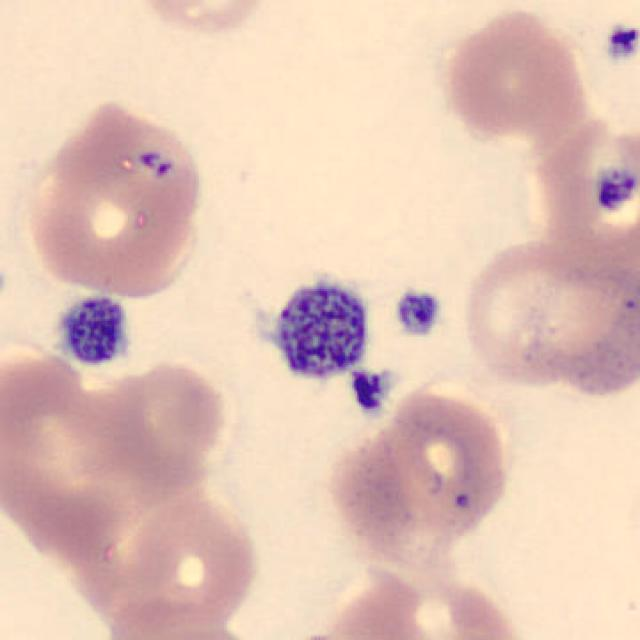Platelets: (263, 273, 373, 386), (52, 291, 135, 372), (391, 286, 445, 340), (347, 367, 393, 418), (592, 166, 636, 217), (599, 18, 640, 67)
RBC: (18, 95, 210, 303), (326, 384, 518, 566), (455, 231, 637, 397), (94, 488, 263, 636), (437, 2, 592, 148), (85, 352, 231, 493), (526, 104, 640, 242), (322, 569, 533, 640), (99, 597, 266, 640), (125, 0, 278, 41), (121, 620, 274, 640)
